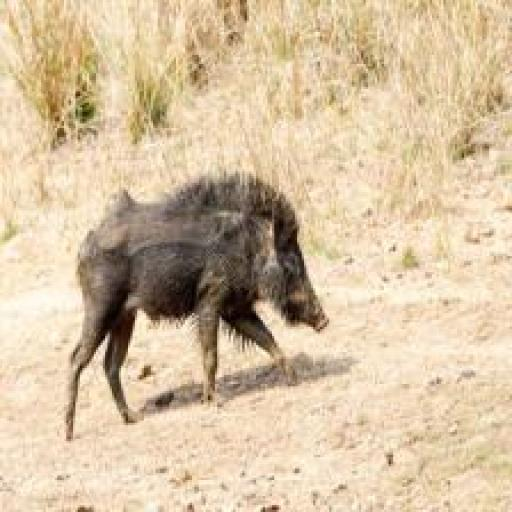Pig: (57, 171, 332, 448)
